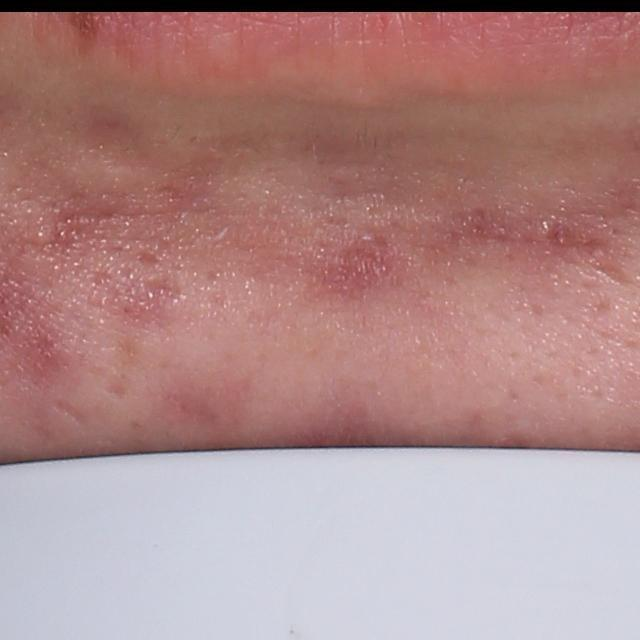atrophic_scar: (84, 111, 153, 172), (51, 397, 89, 431), (138, 275, 183, 303), (136, 251, 163, 269), (106, 379, 129, 400)
